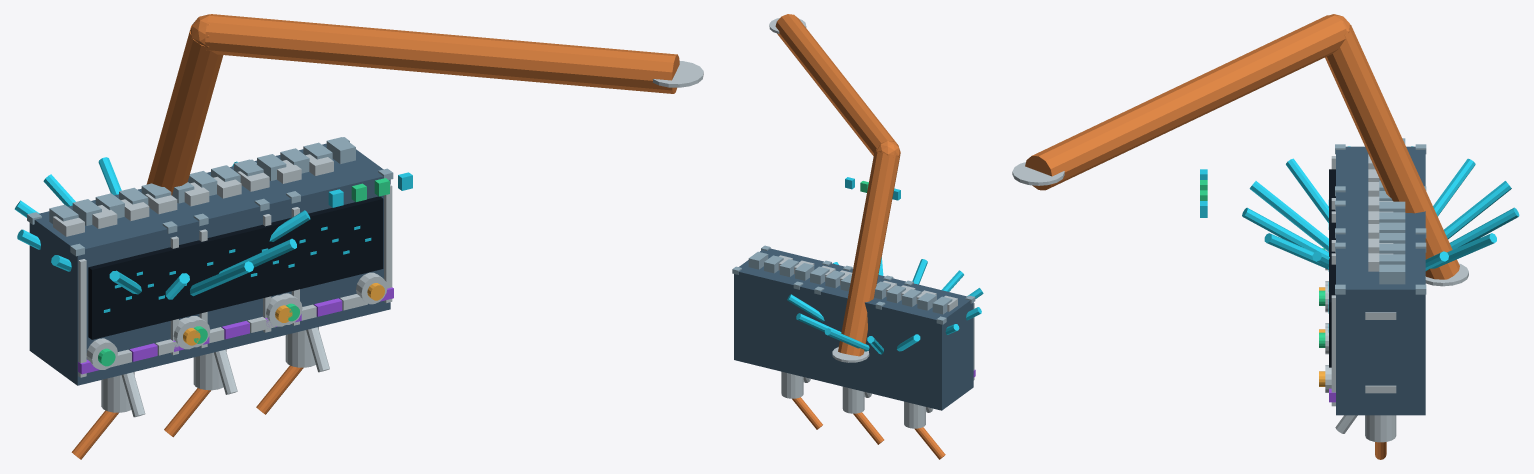
Rendered from 23_L78_CapGasMassFlowController.fbx.
The picture shows the model from 3 angles, left to right: view 1: azimuth 30°, elevation 25°; view 2: azimuth 150°, elevation 25°; view 3: azimuth 270°, elevation 25°; orthographic projection. The views are drawn at different scales.
Visible parts, largest first — view 1: CapGasMassFlowController, CapGasMassFlowController_Part_0125; view 2: CapGasMassFlowController, CapGasMassFlowController_Part_0132, CapGasMassFlowController_Part_0134, CapGasMassFlowController_Part_0133; view 3: CapGasMassFlowController, CapGasMassFlowController_Part_0126, CapGasMassFlowController_Part_0125, CapGasMassFlowController_Part_0131, CapGasMassFlowController_Part_0132, CapGasMassFlowController_Part_0127, CapGasMassFlowController_Part_0130, CapGasMassFlowController_Part_0133, CapGasMassFlowController_Part_0124.
Part boxes in pixels (x1,y1,x2,y2): CapGasMassFlowController: (27, 14, 703, 459); CapGasMassFlowController_Part_0125: (190, 261, 253, 296); CapGasMassFlowController: (732, 14, 975, 459); CapGasMassFlowController_Part_0132: (824, 328, 869, 351); CapGasMassFlowController_Part_0134: (787, 294, 824, 321); CapGasMassFlowController_Part_0133: (796, 313, 841, 333); CapGasMassFlowController: (1012, 14, 1468, 459); CapGasMassFlowController_Part_0126: (1249, 181, 1328, 251); CapGasMassFlowController_Part_0125: (1242, 207, 1328, 256); CapGasMassFlowController_Part_0131: (1444, 181, 1511, 239); CapGasMassFlowController_Part_0132: (1449, 207, 1519, 249); CapGasMassFlowController_Part_0127: (1286, 158, 1328, 222); CapGasMassFlowController_Part_0130: (1433, 158, 1475, 216); CapGasMassFlowController_Part_0133: (1426, 233, 1496, 270); CapGasMassFlowController_Part_0124: (1264, 233, 1328, 269).
Size of the model in its own units: 167 by 145 by 163.
